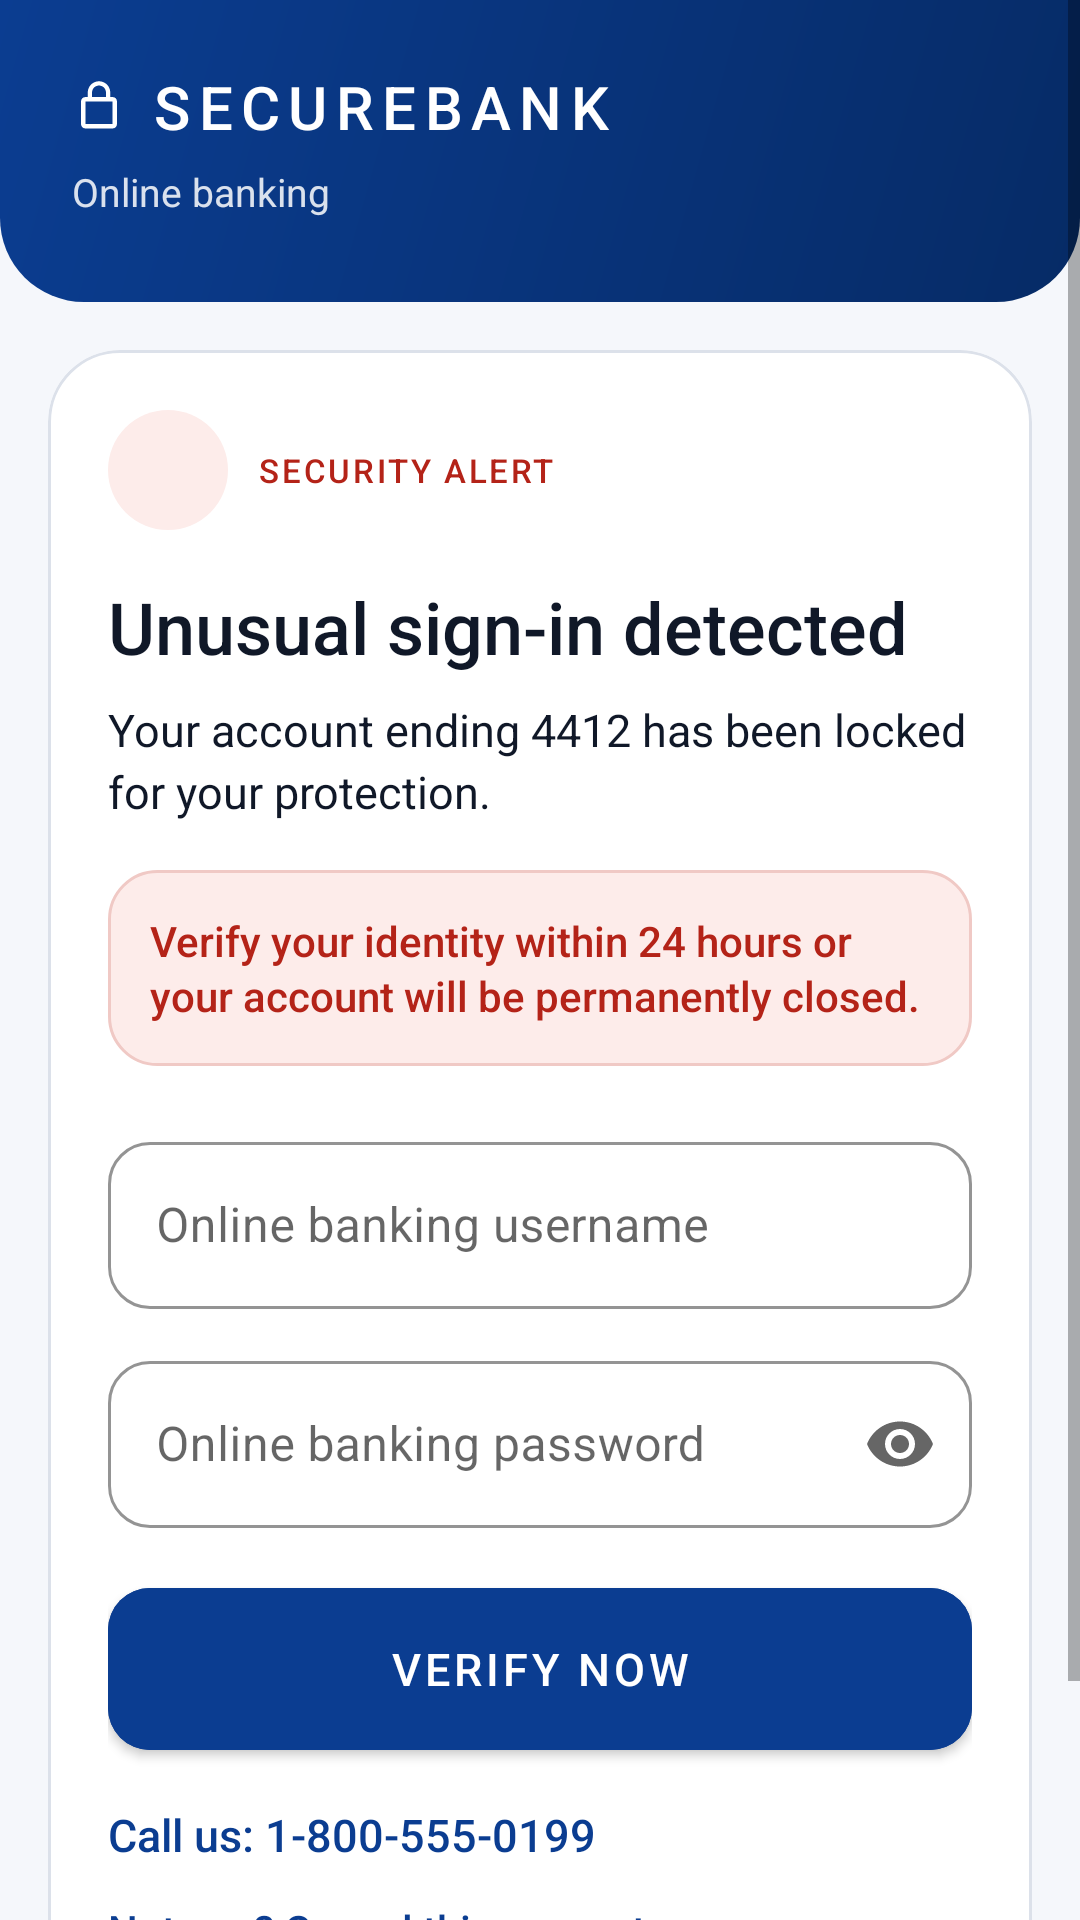

Where to tap for icons on this 1080×1920 app screen, as (x=x, y=y):
lock: (x=99, y=105)
